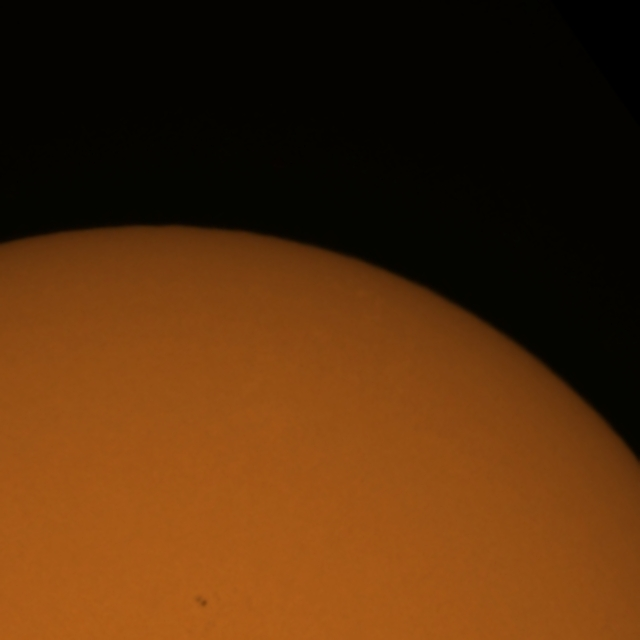sunspot: (192, 593, 210, 610)
